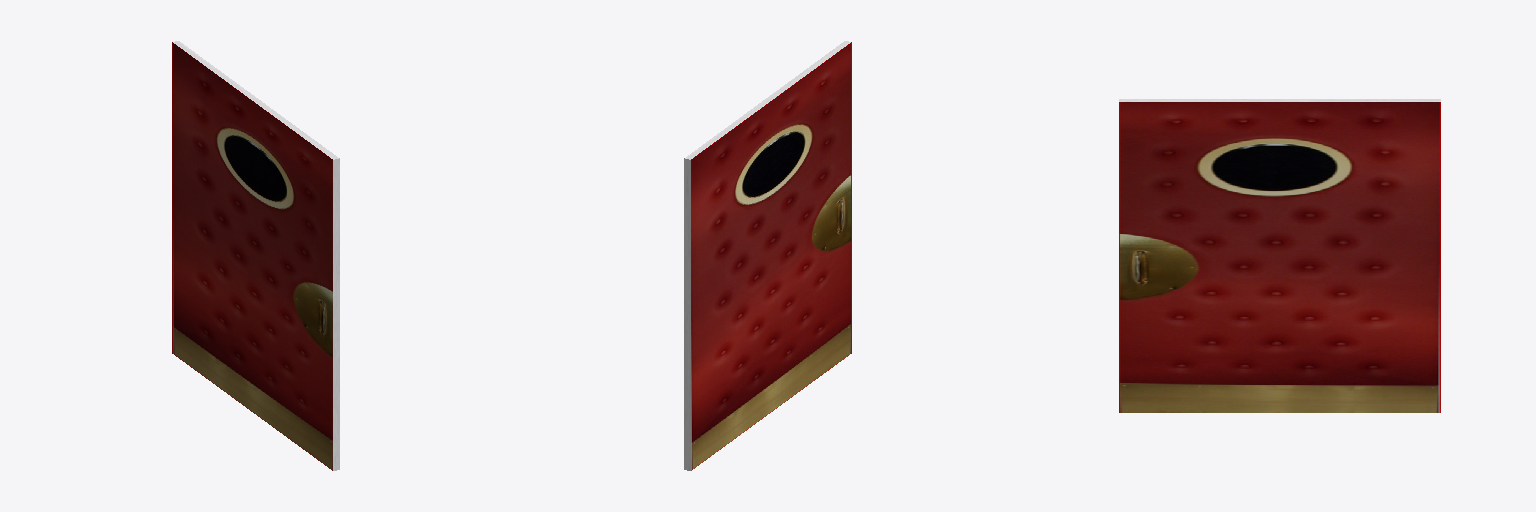
3 renders of one model, left to right at view 1: azimuth 30°, elevation 25°; view 2: azimuth 150°, elevation 25°; view 3: azimuth 270°, elevation 25°, orthographic.
Visible parts, largest first — view 1: puerta1:pCube7; view 2: puerta1:pCube7; view 3: puerta1:pCube7.
Part boxes in pixels (x1,y1,x2,y2): puerta1:pCube7: (172,41,339,470); puerta1:pCube7: (684,41,851,470); puerta1:pCube7: (1119,99,1440,412).
Bounding box in the file's own units: 0.0614 × 2.93 × 2.75.
Materials: 2 (2 with a texture image).